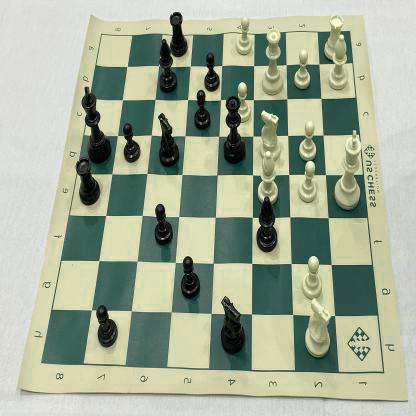black-bishop: (253, 193, 280, 254), (157, 33, 178, 97)
black-king: (78, 82, 113, 164)
black-knight: (218, 294, 247, 357), (156, 109, 182, 170)
black-pawn: (94, 302, 119, 352), (178, 251, 202, 301), (152, 200, 175, 248), (121, 114, 143, 163), (202, 50, 222, 96), (192, 88, 212, 132)
black-queen: (222, 92, 246, 168)
black-rook: (74, 156, 101, 209), (167, 7, 188, 62)
white-bishop: (324, 32, 356, 92), (254, 149, 284, 207)
white-king: (330, 126, 366, 216)
white-knight: (301, 294, 336, 360), (258, 106, 284, 166)
white-pawn: (300, 254, 326, 302), (296, 158, 320, 205), (296, 117, 318, 163), (232, 80, 252, 128), (291, 47, 312, 91), (234, 12, 254, 58)
white-queen: (258, 22, 286, 97)
white-rook: (323, 9, 348, 64)
